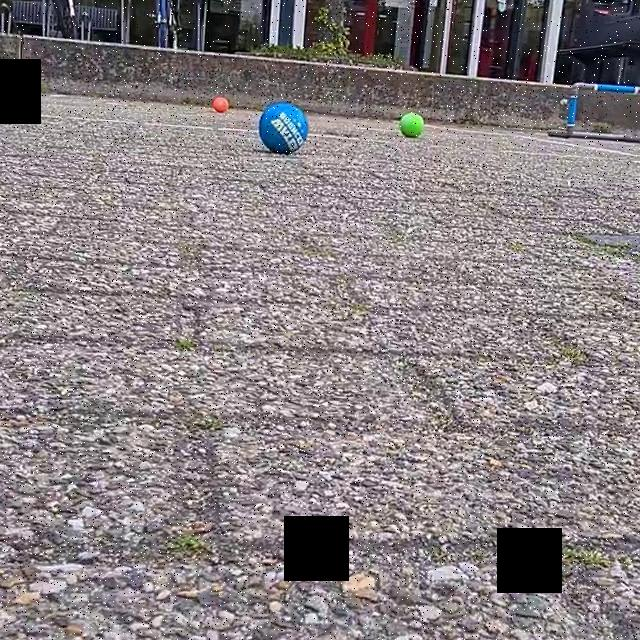ball: (396, 109, 426, 140)
